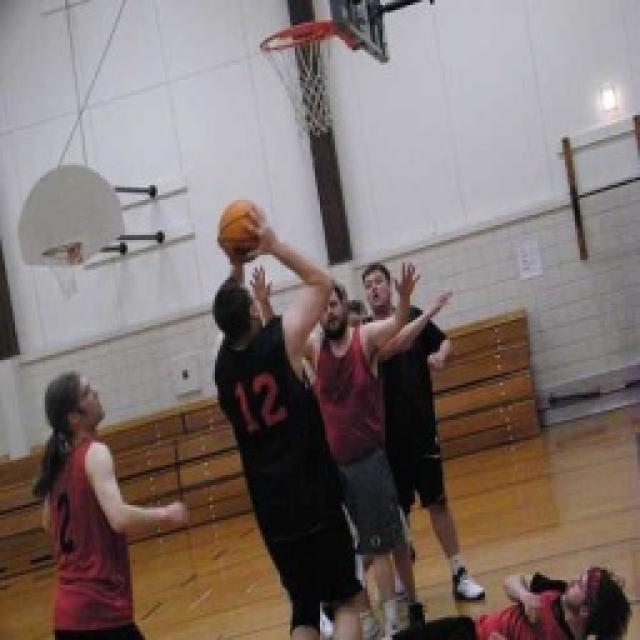rim: (213, 198, 273, 266)
